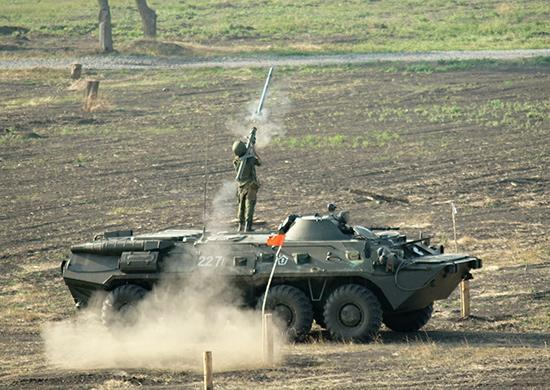person: (230, 134, 262, 232)
tank: (60, 202, 483, 345)
